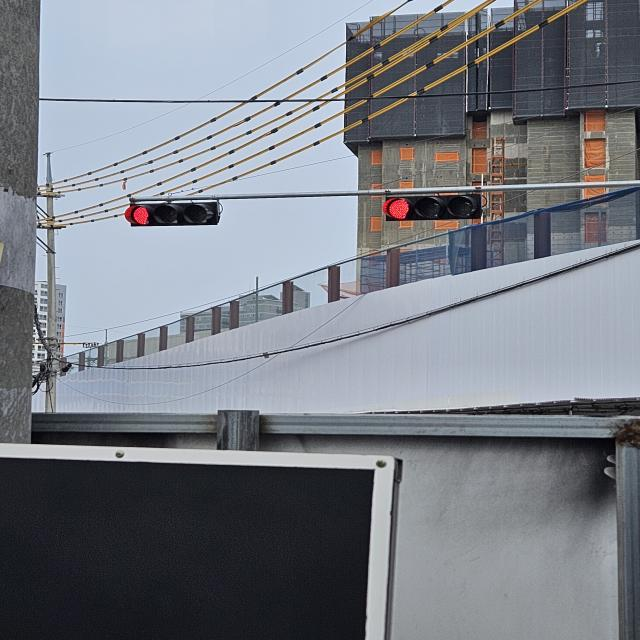Red Light: (382, 196, 411, 220), (125, 203, 151, 226)
